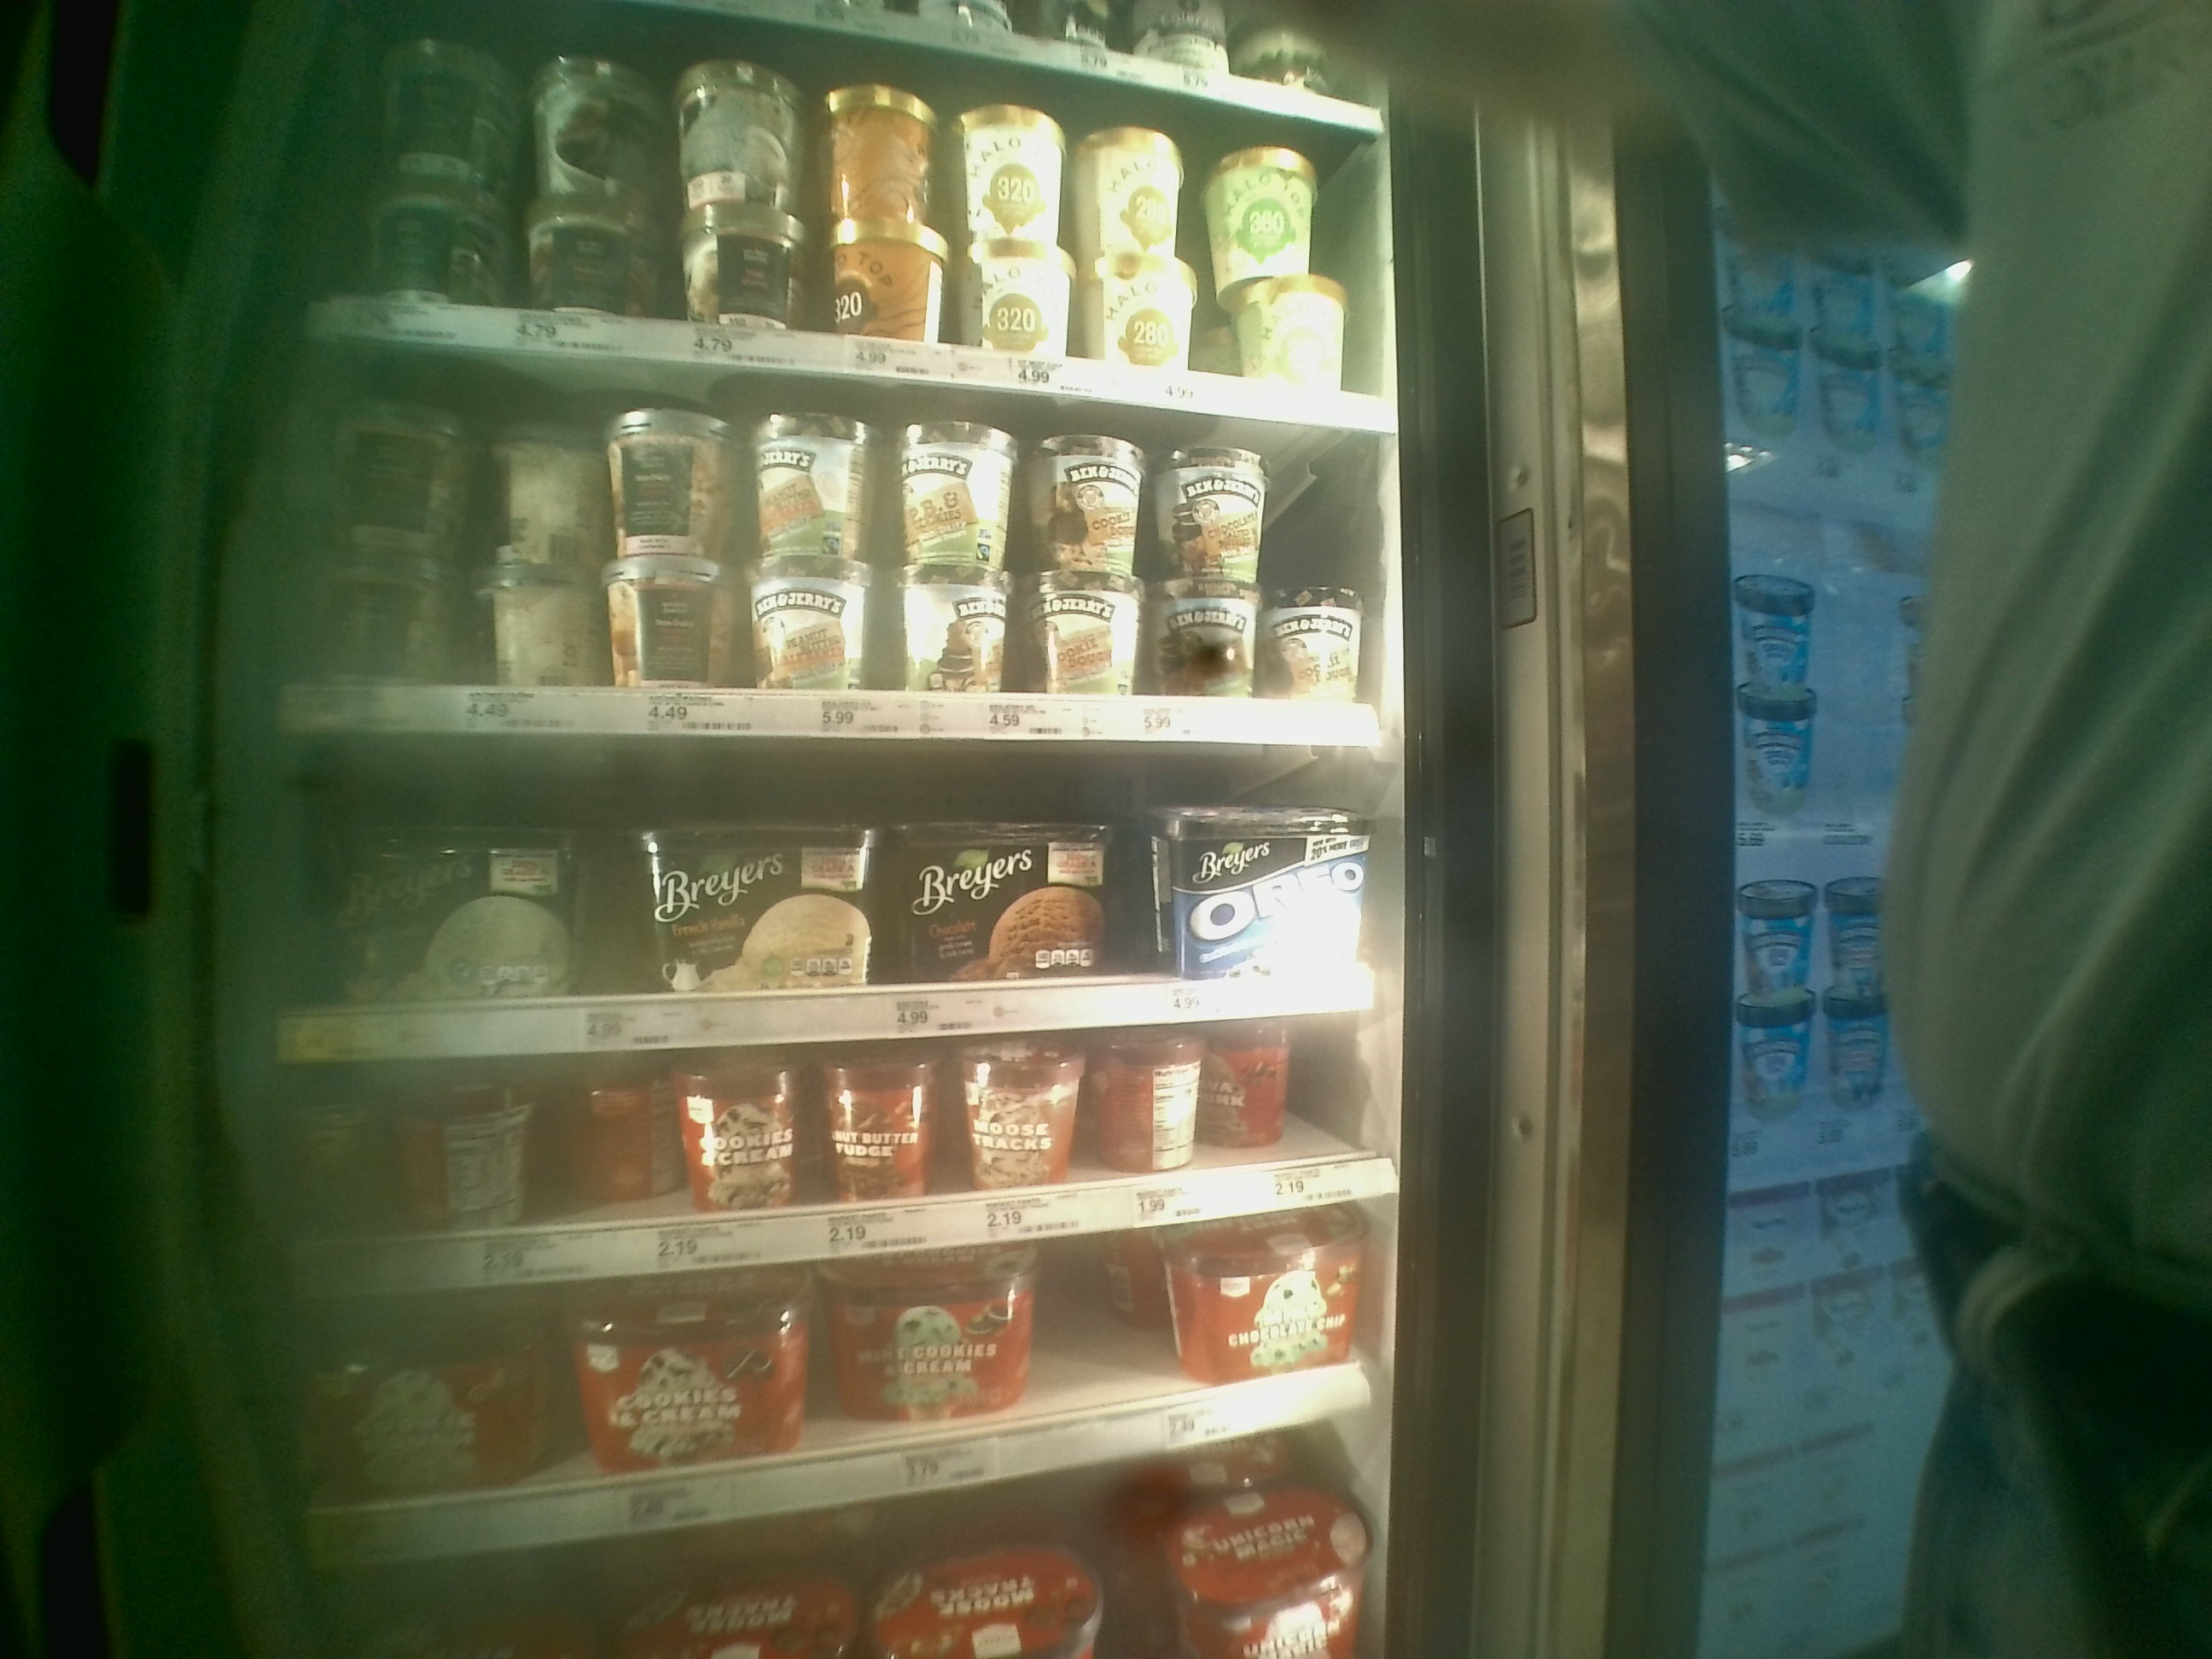ice-cream-shelf: (258, 354, 1393, 742), (280, 735, 1383, 1049), (317, 1084, 1376, 1243)
